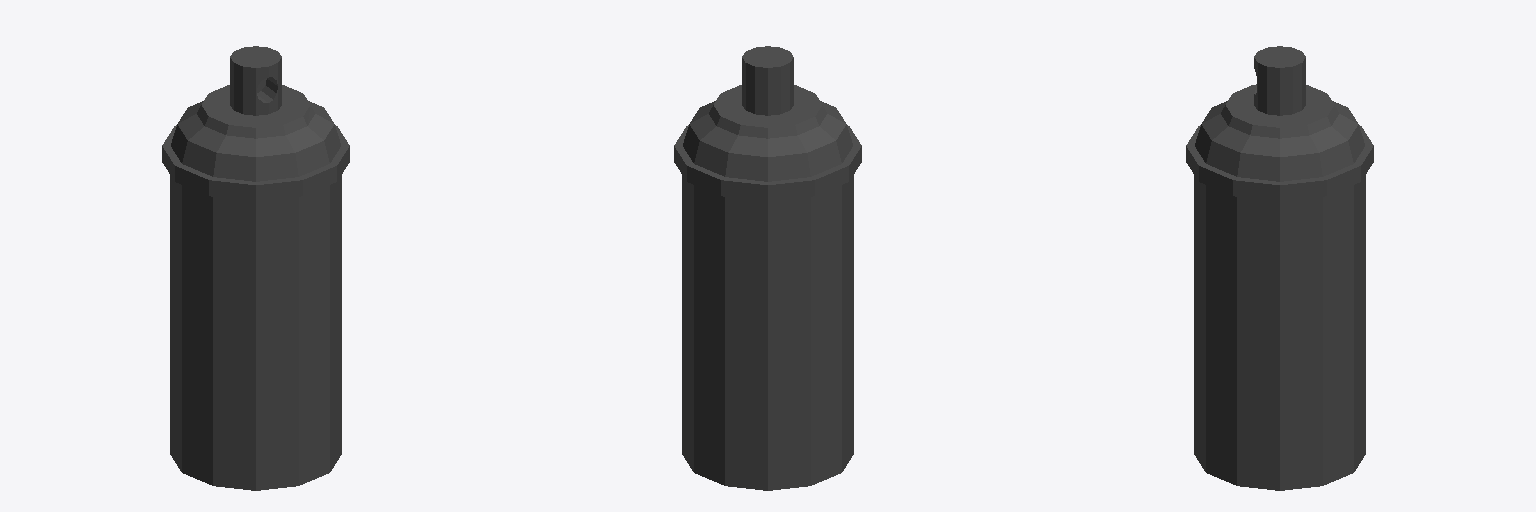
The model's file is SprayPaint.obj.
The picture shows the model from 3 angles: view 1: azimuth 30°, elevation 25°; view 2: azimuth 150°, elevation 25°; view 3: azimuth 270°, elevation 25°; orthographic projection.
Parts seen in each view (by area): view 1: Handle1; view 2: Handle1; view 3: Handle1.
Boxes of the visible parts, box(x1,y1,x2,y2) form: Handle1: box(162, 46, 349, 490); Handle1: box(674, 46, 861, 490); Handle1: box(1186, 46, 1373, 490).
Bounding box in the file's own units: 0.567 × 1.32 × 0.567.